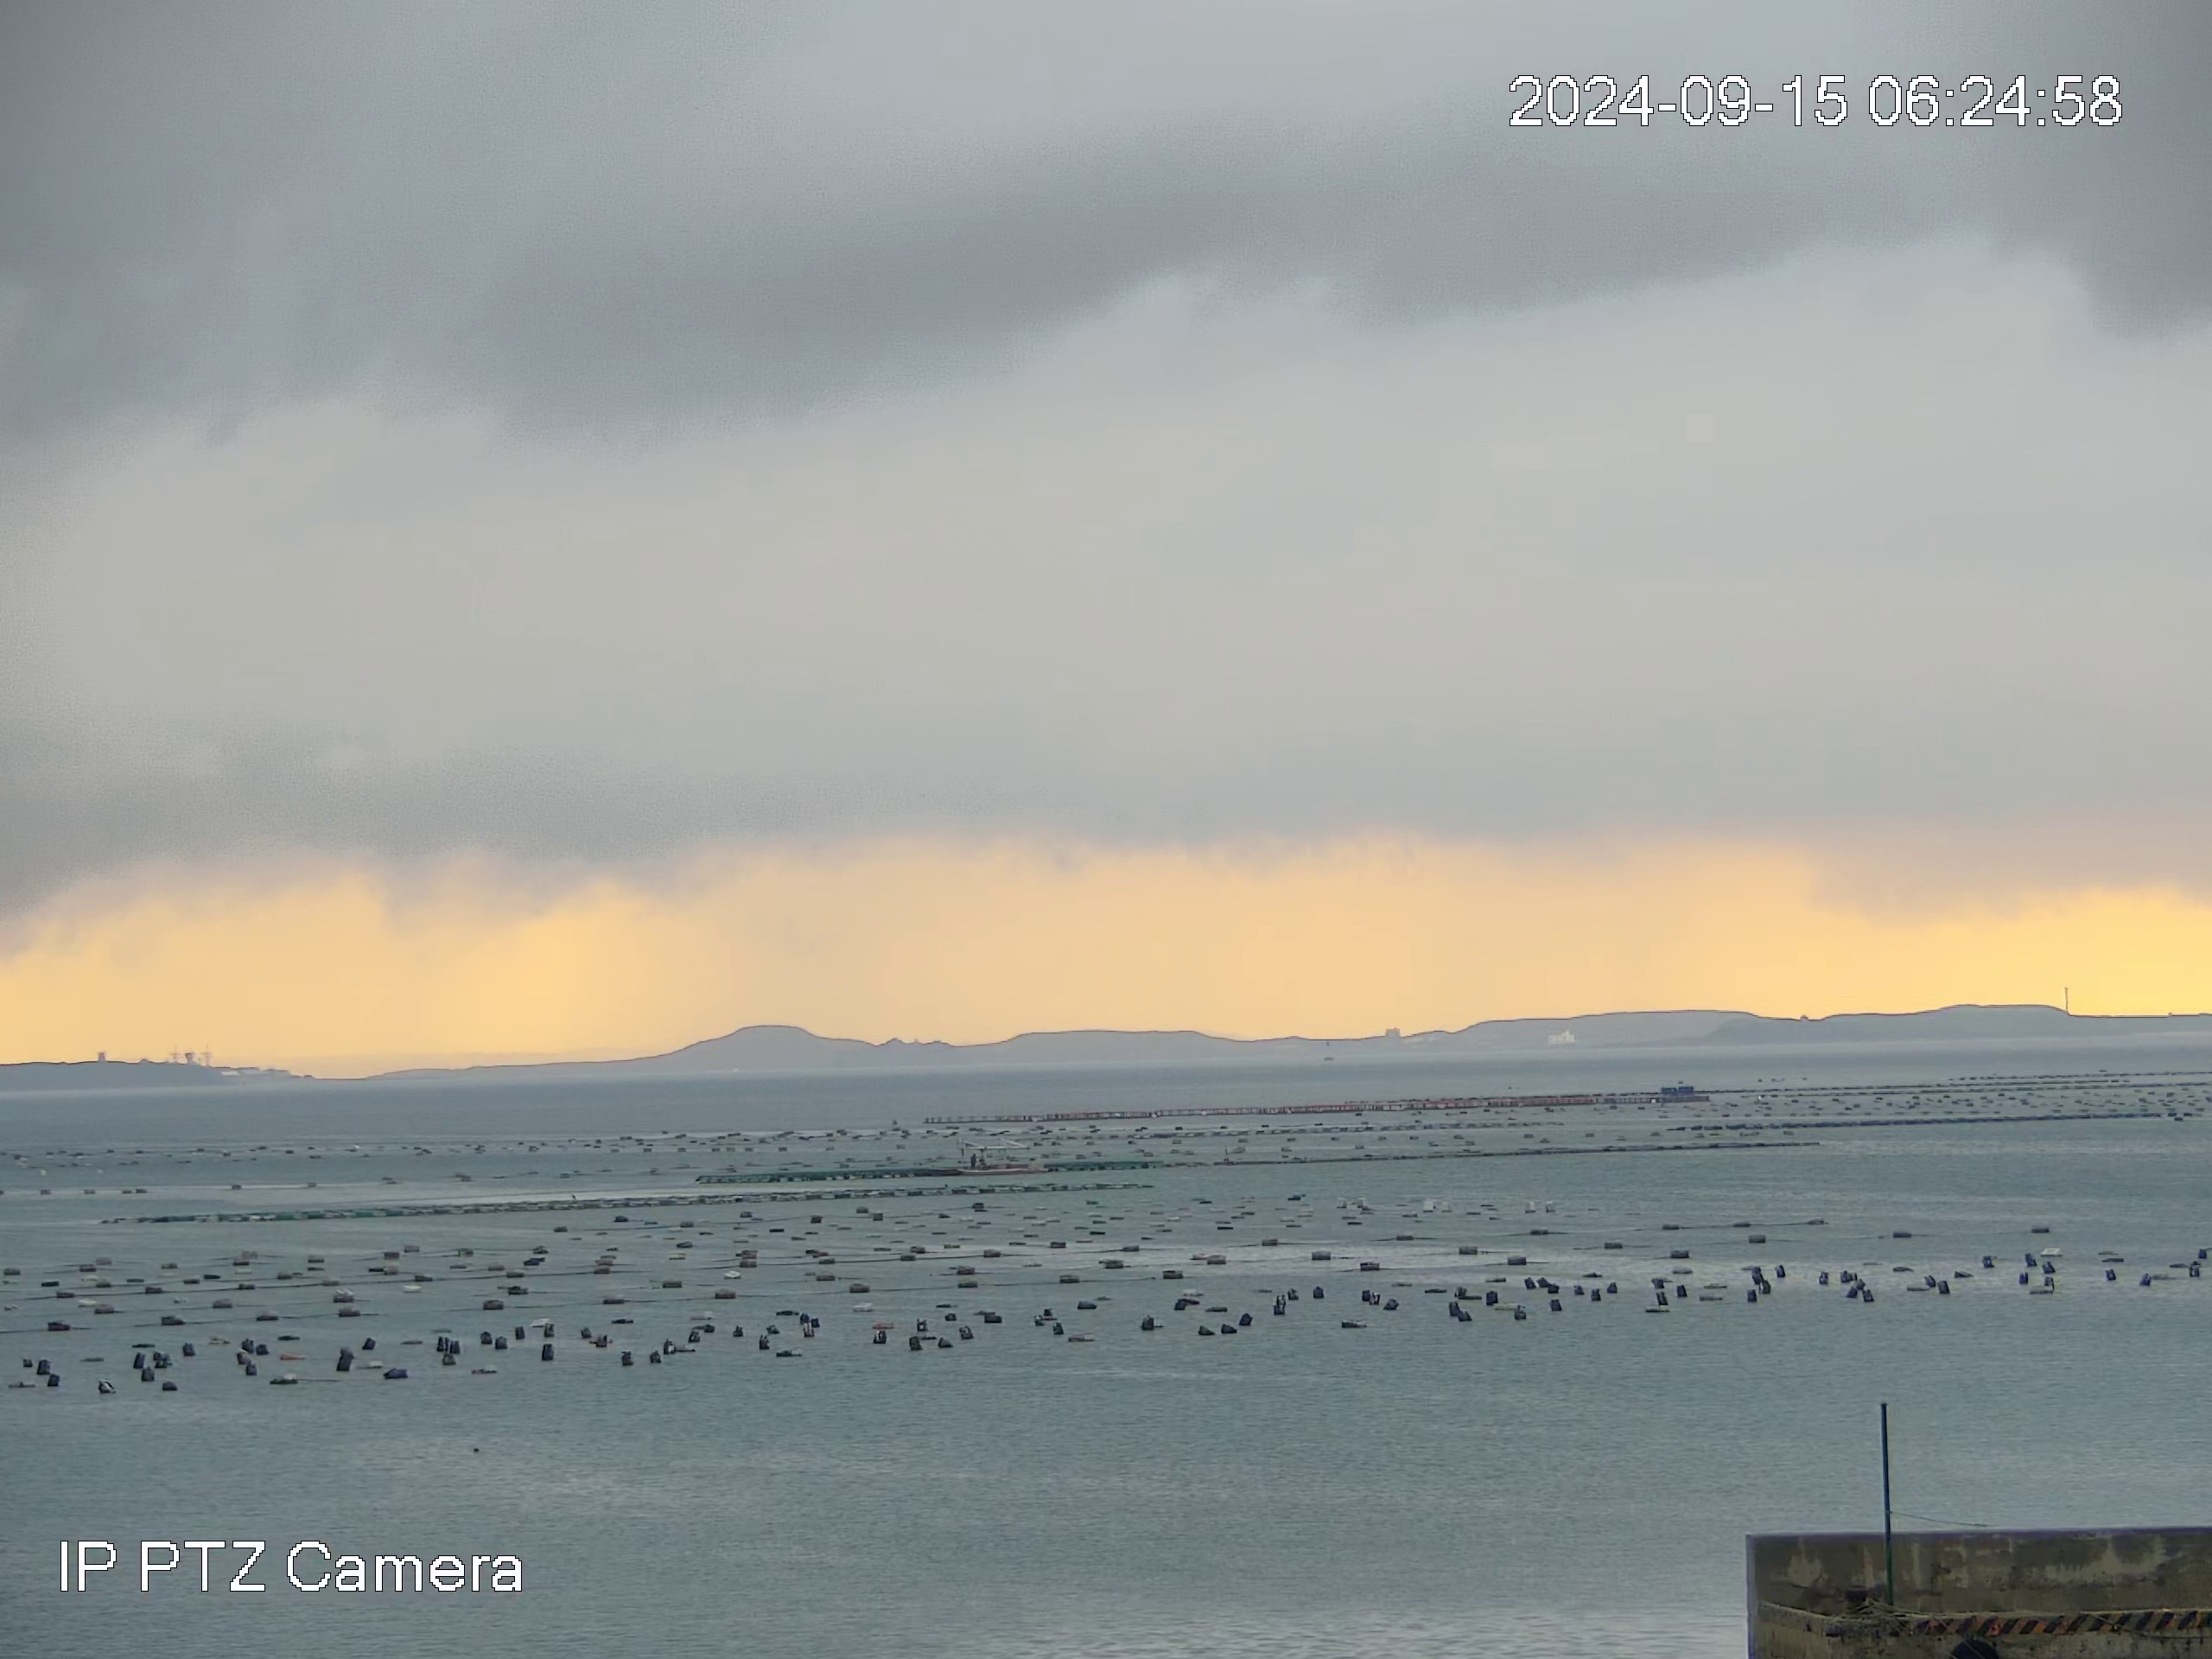boat: (953, 1134, 1050, 1178)
